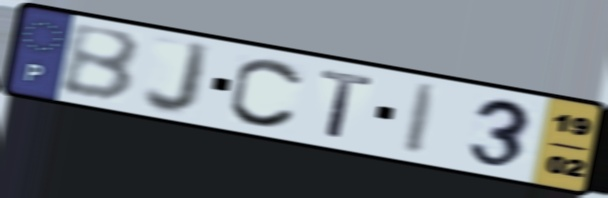3: (463, 96, 545, 174)
B: (58, 23, 144, 105)
C: (226, 55, 307, 131)
I: (399, 81, 443, 159)
J: (140, 39, 215, 118)
T: (316, 67, 378, 142)
